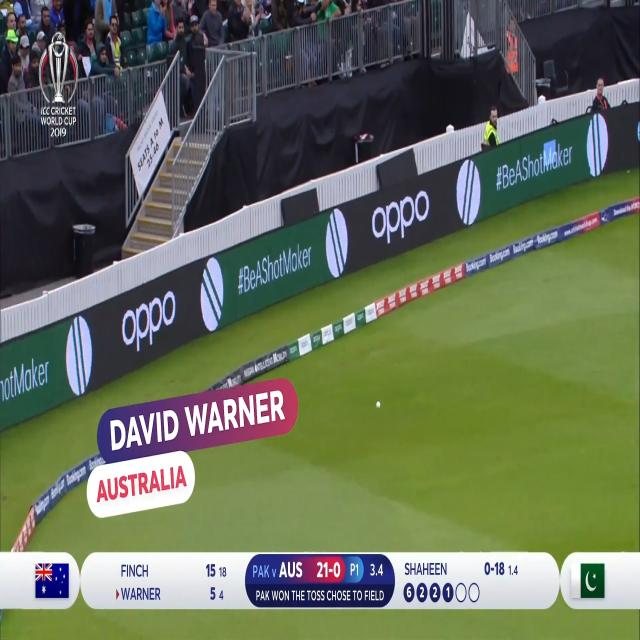ball: (372, 398, 384, 413)
